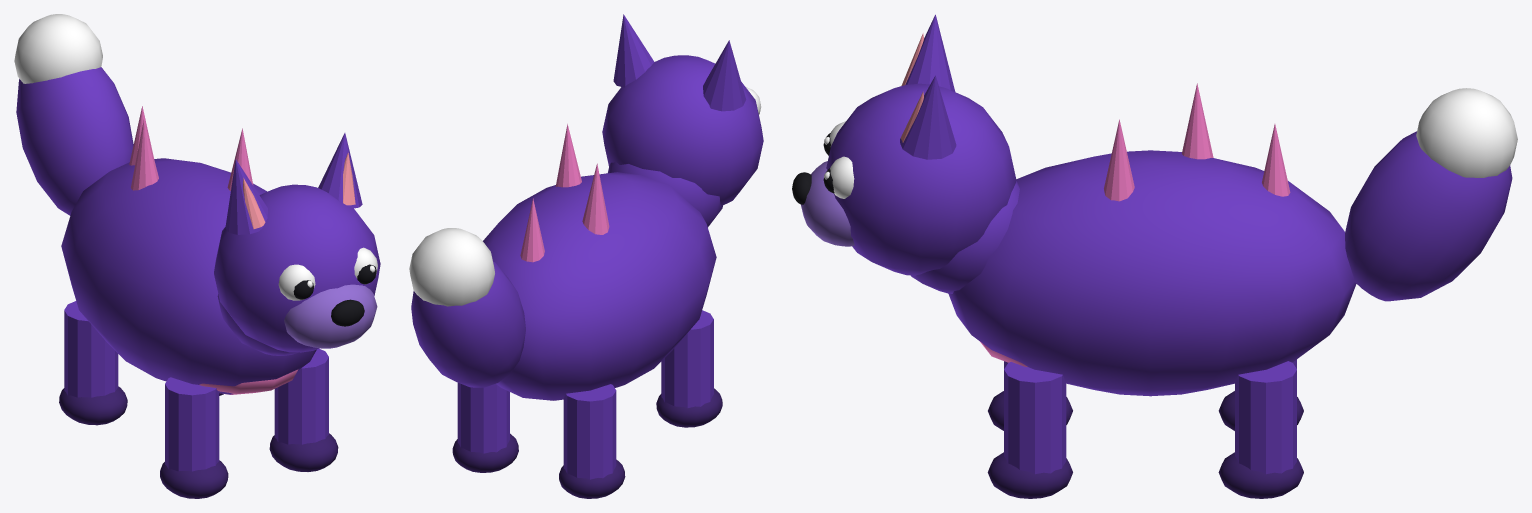
The picture shows the model from 3 angles, left to right: view 1: azimuth 30°, elevation 25°; view 2: azimuth 150°, elevation 25°; view 3: azimuth 270°, elevation 25°; orthographic projection. The views are drawn at different scales.
Parts seen in each view (by area): view 1: Nebula Fox; view 2: Nebula Fox; view 3: Nebula Fox.
Part boxes in pixels (x1=…): Nebula Fox: x1=14, y1=14, x2=380, y2=498; Nebula Fox: x1=409, y1=14, x2=763, y2=498; Nebula Fox: x1=792, y1=14, x2=1517, y2=498.
Bounding box in the file's own units: 1.7 × 2.97 × 4.67.
Materials: 1 (1 with a texture image).
